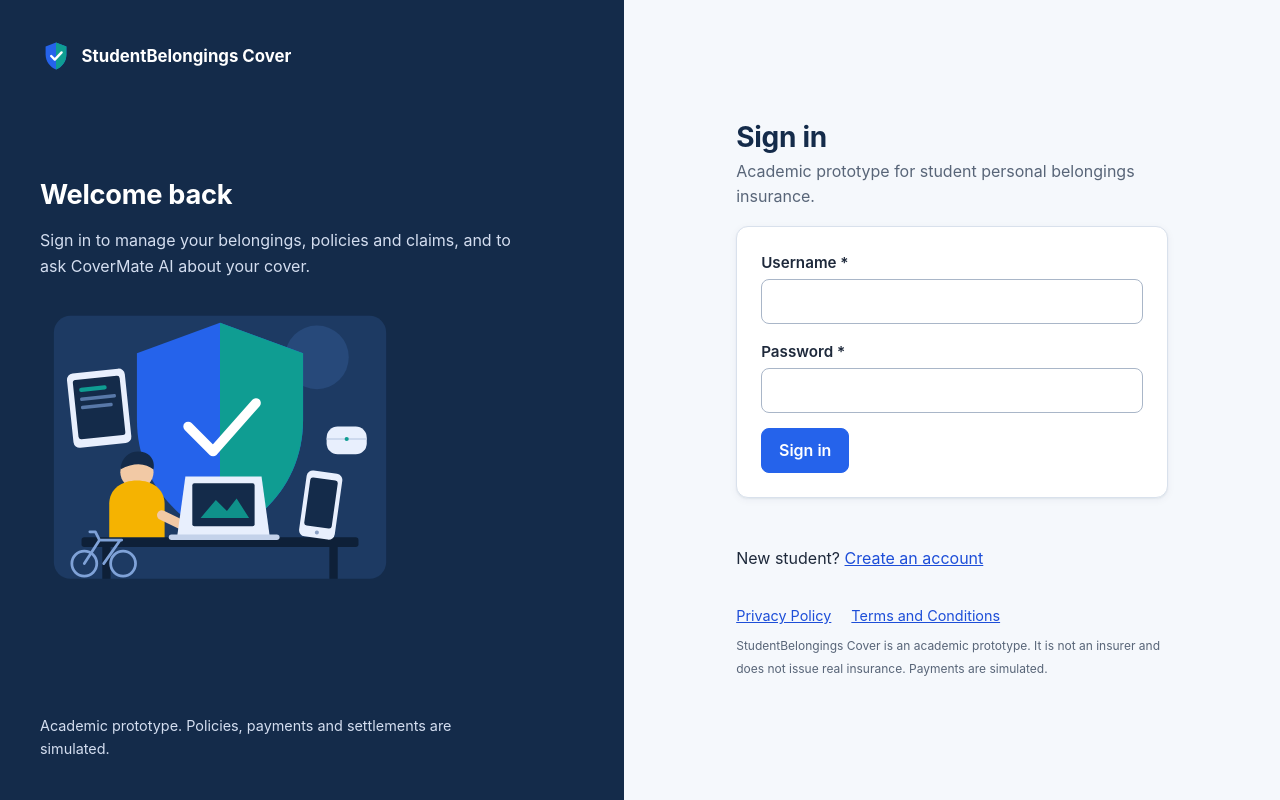
Test: sign in and role based navigation › validates the login form and signs a student in
Click the button "Sign in" at (805, 451), box [761,428,849,473]
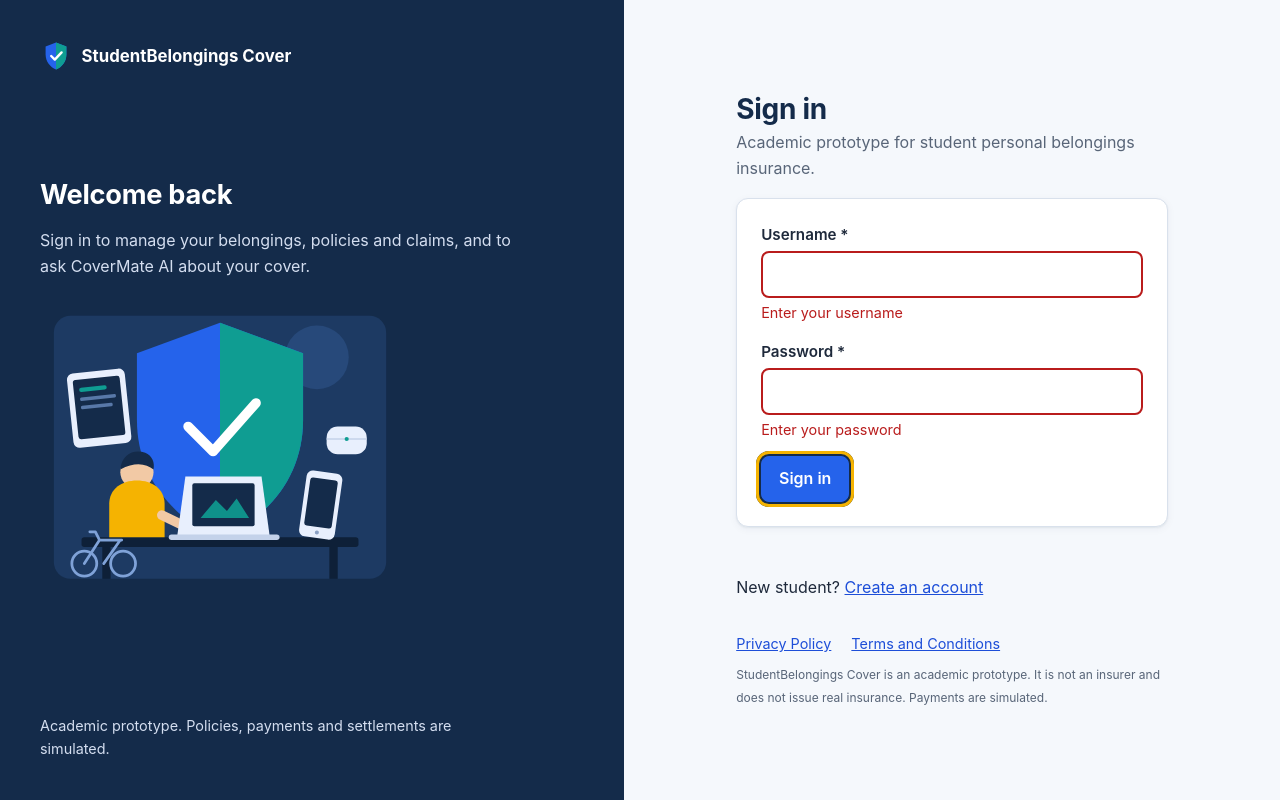
Result: the text "Enter your username" is shown at [761,304,903,321]
Type "riya" into the field labelled "Username *" at (952, 274), box [761,251,1143,298]
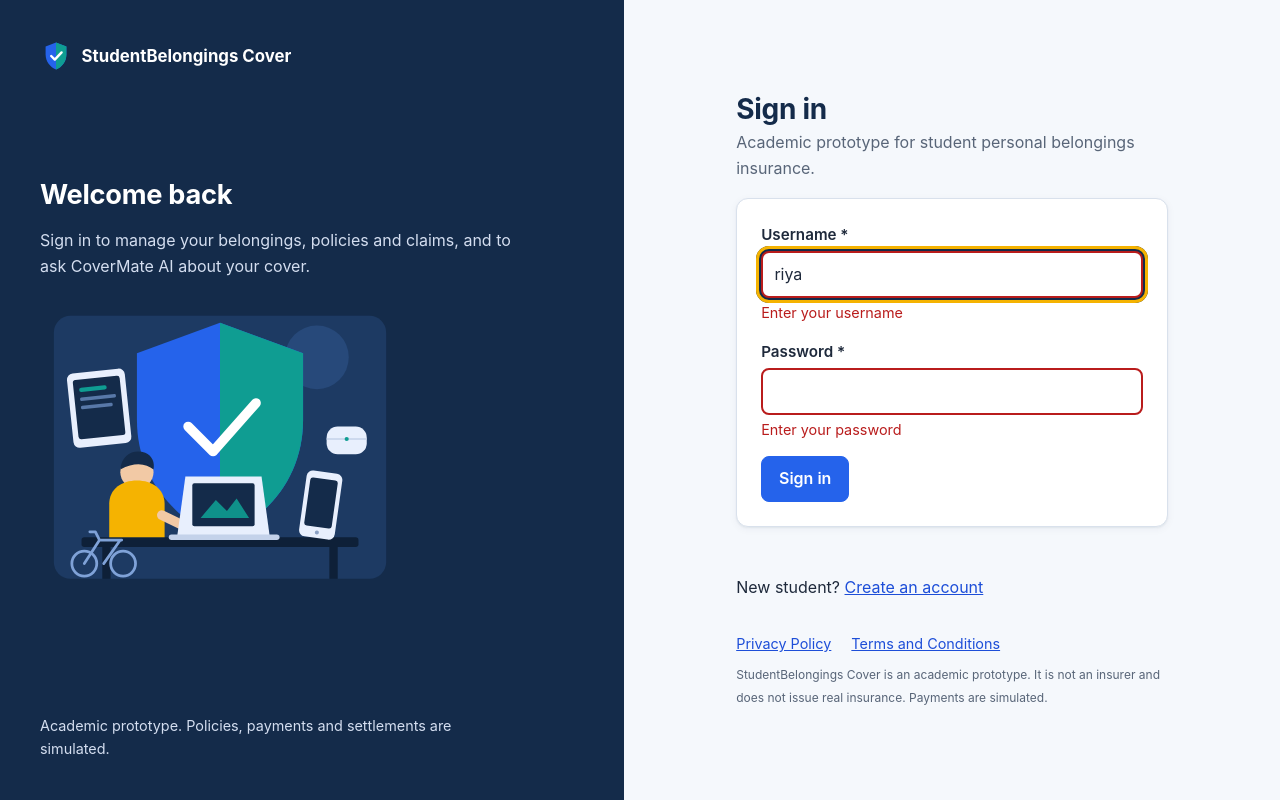
Type "student123" into the password field labelled "Password *" at (952, 391), box [761,368,1143,415]
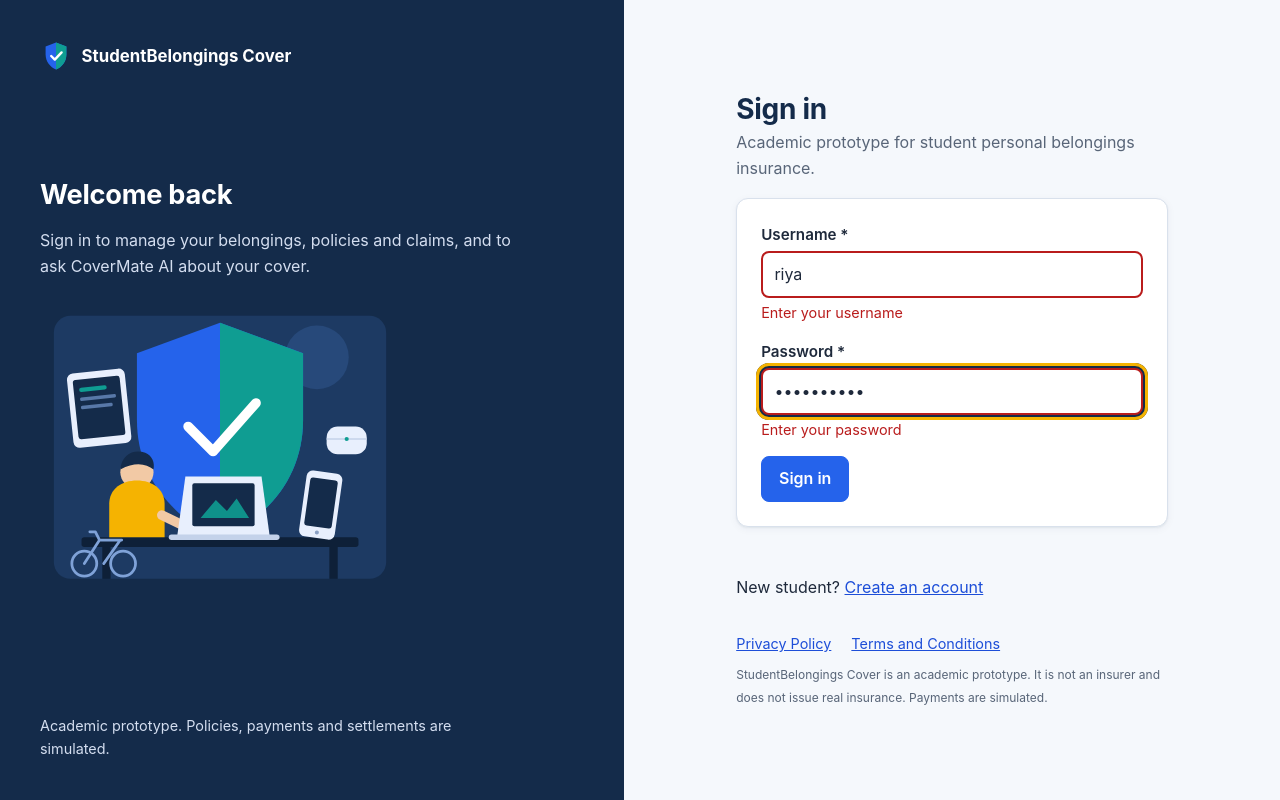
Click the button "Sign in" at (805, 479), box [761,456,849,502]
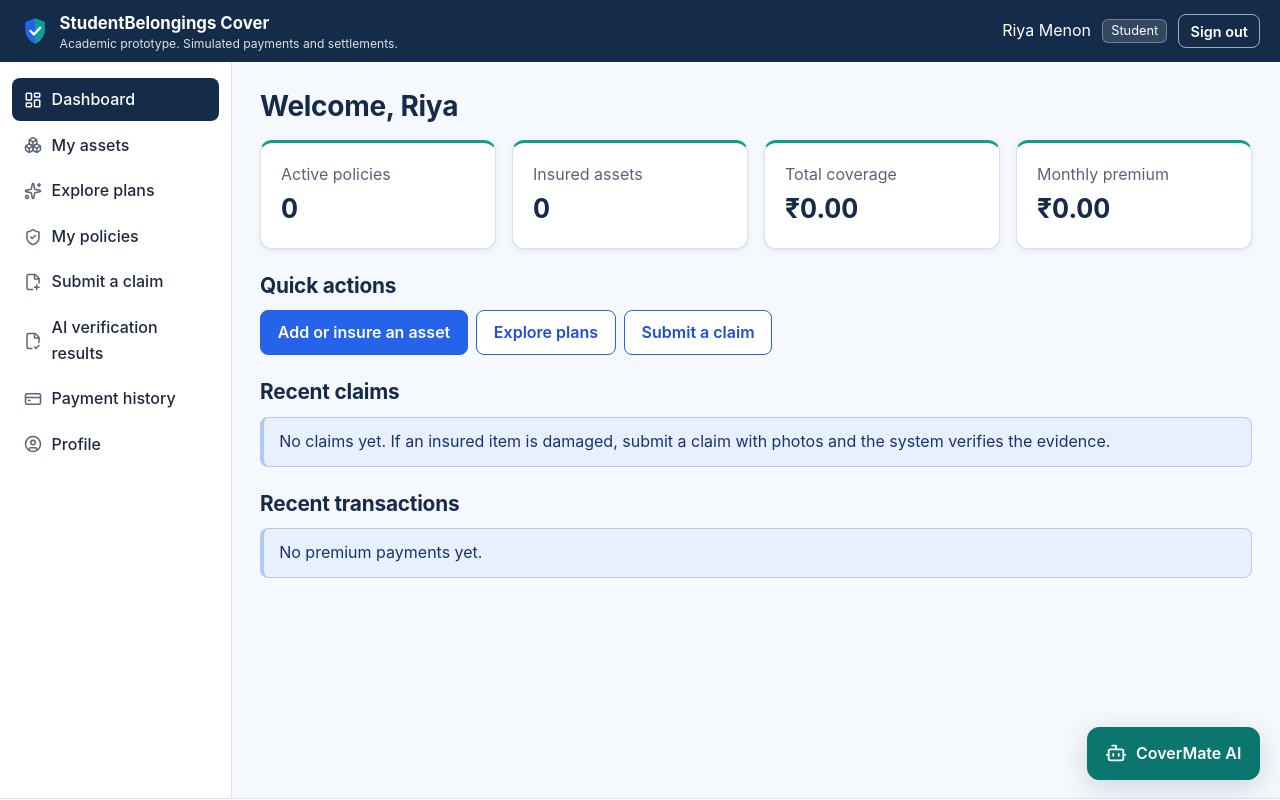
Result: the heading "Welcome, Riya" is shown at [260,89,458,123]
